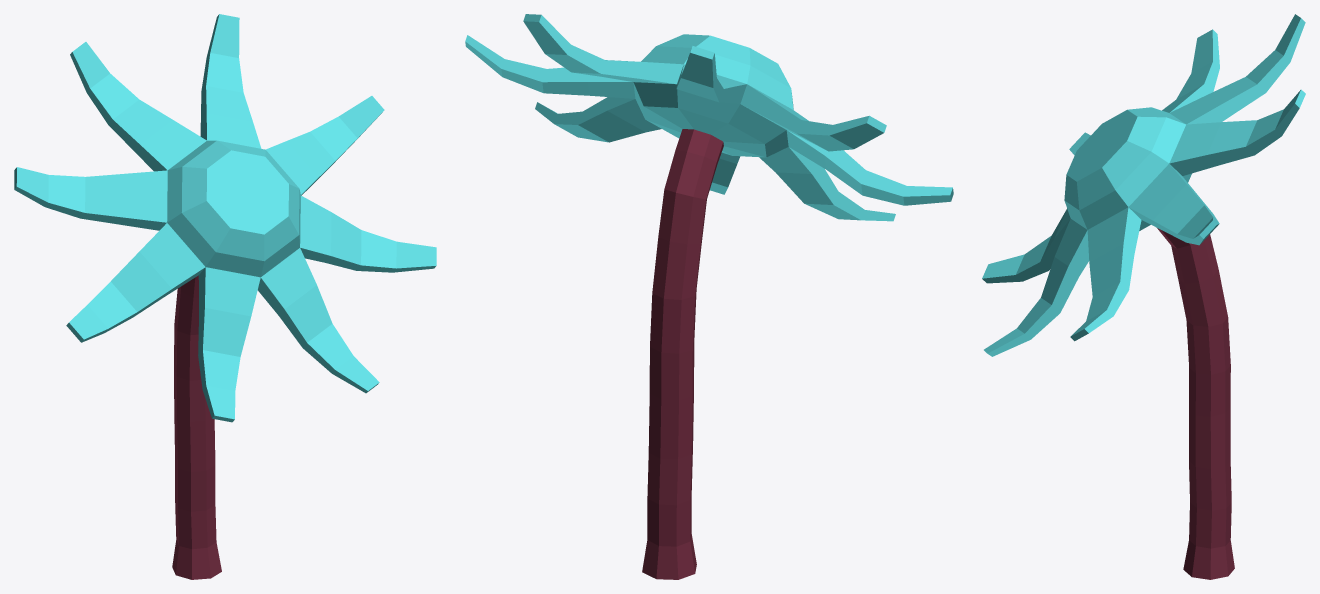
File: Mo_FlowerForest04.fbx
The picture shows the model from 3 angles, left to right: view 1: azimuth 30°, elevation 25°; view 2: azimuth 150°, elevation 25°; view 3: azimuth 270°, elevation 25°; orthographic projection. The views are drawn at different scales.
Parts seen in each view (by area): view 1: Cylinder; view 2: Cylinder; view 3: Cylinder.
Boxes of the visible parts, left/top/right/bottom form: Cylinder: left=14, top=14, right=436, bottom=579; Cylinder: left=465, top=14, right=953, bottom=579; Cylinder: left=982, top=14, right=1305, bottom=579.
Bounding box in the file's own units: 156 × 204 × 116.
